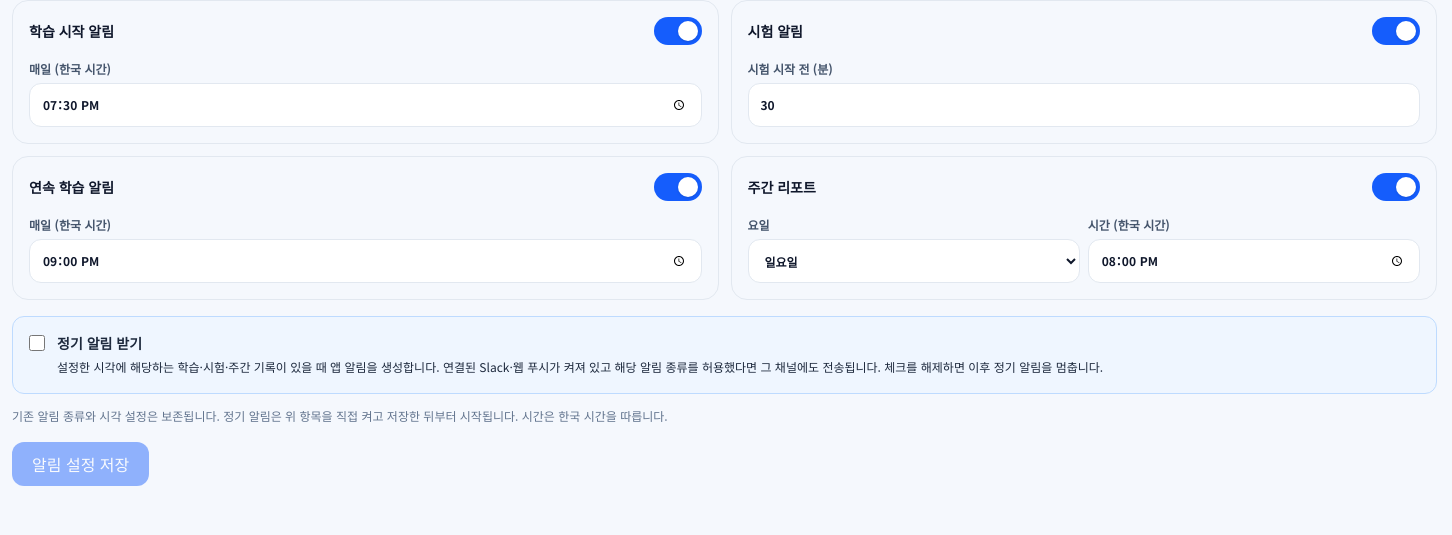
Test: notification preferences › keeps the draft and blocks a stale revision
Replace the text in the number field labelled "시험 시작 전 (분)" with "45" at {"x": 1084, "y": 105}, box [748,83,1420,127]
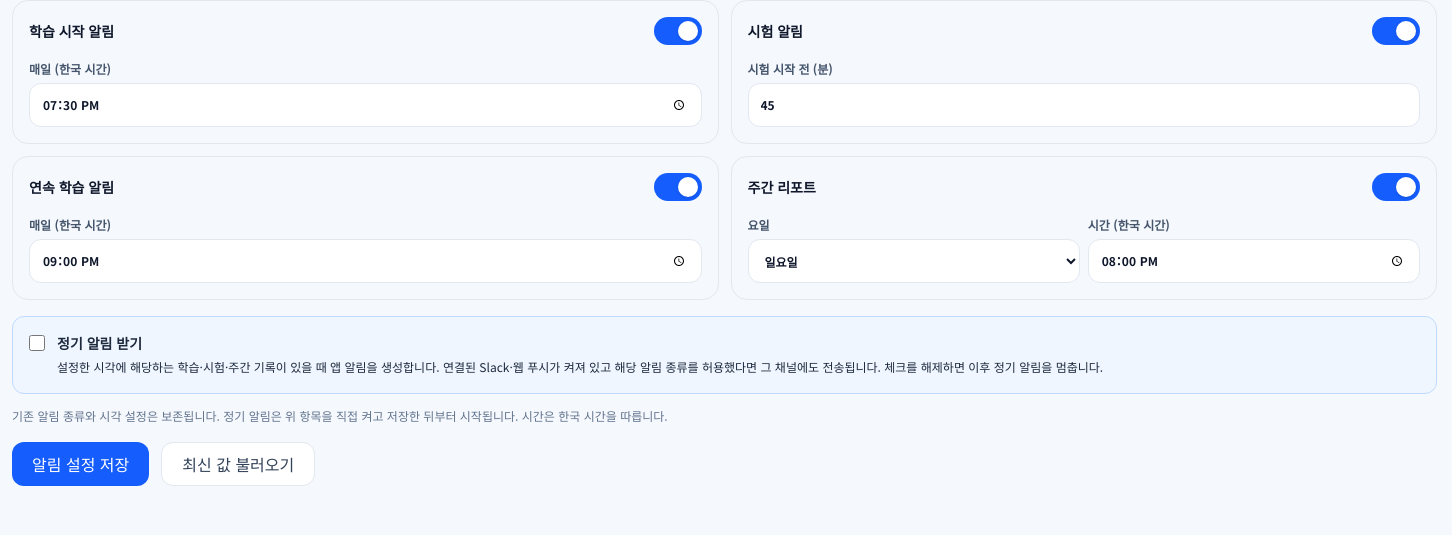
Click the button "알림 설정 저장" at {"x": 81, "y": 464}, box [12,442,149,486]
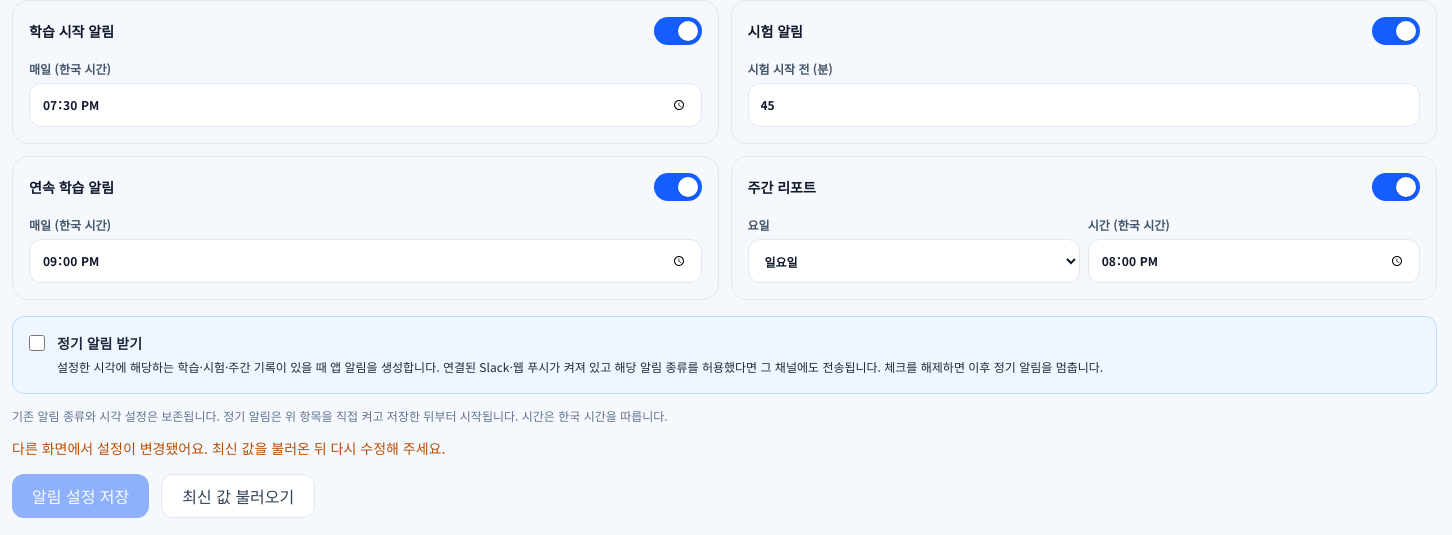
Expected: the message shows "다른 화면에서", [12,438,445,458]
Expected: the button "알림 설정 저장" is disabled, [12,474,149,518]
